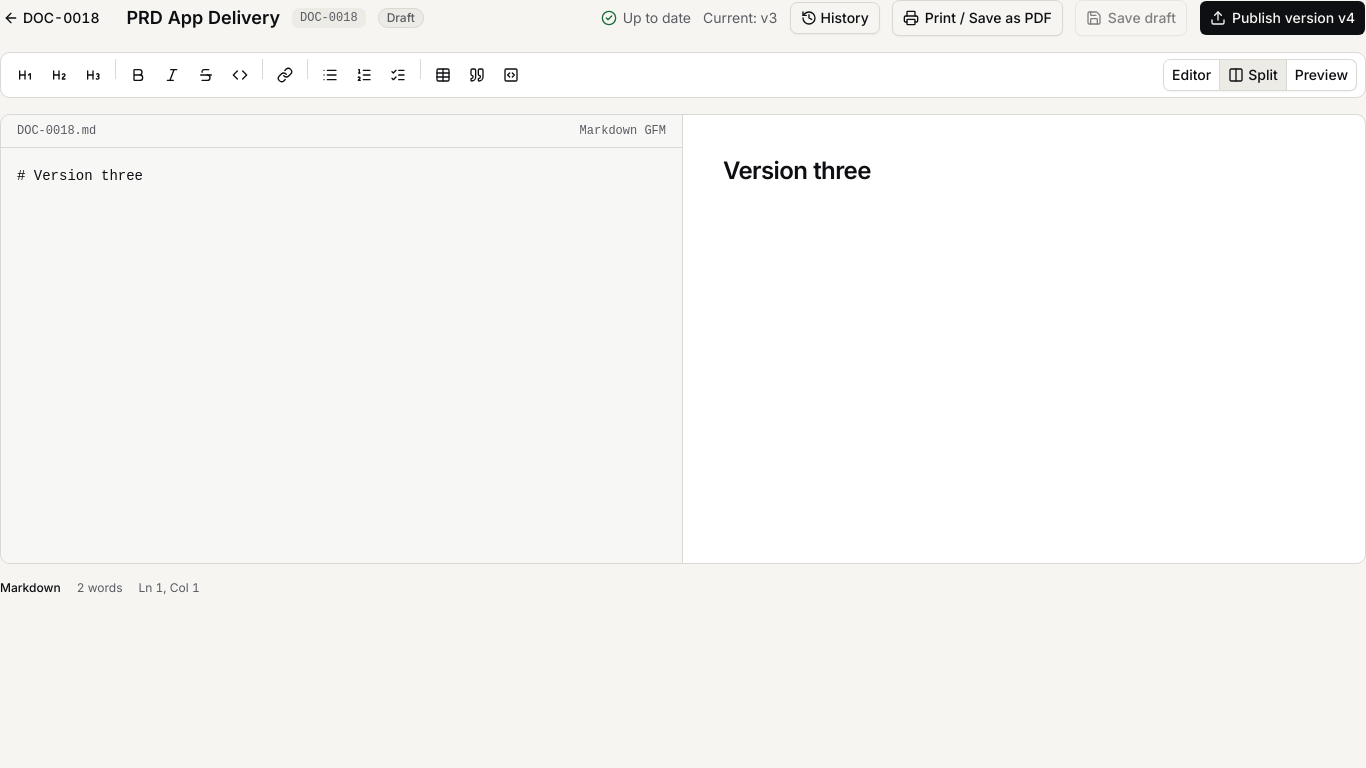
Test: DocumentEditor publish › switches to the locked state when the server reports the document signed
Click the button "Publish version v4".
click(1282, 18)  # box [1199,0,1365,36]
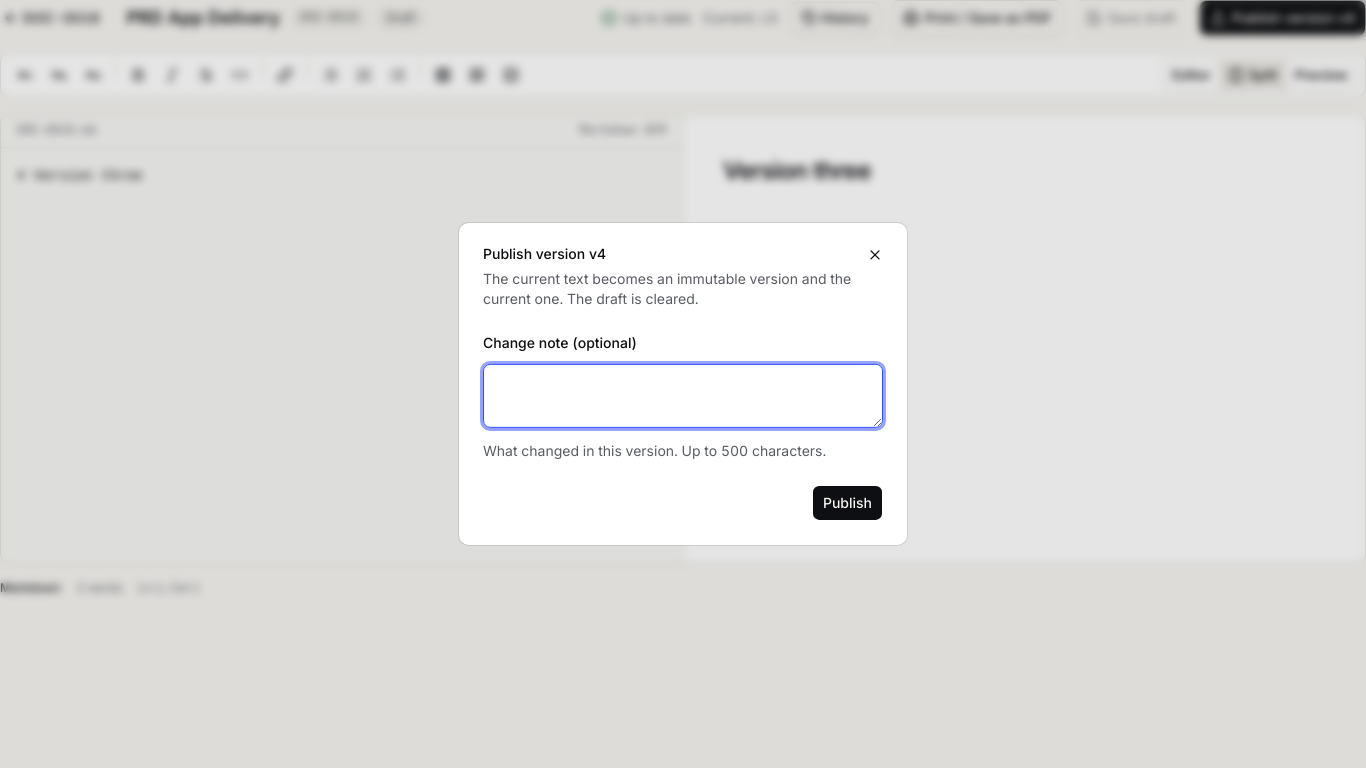
Click the button "Publish".
click(847, 503)  # box [812,485,883,521]
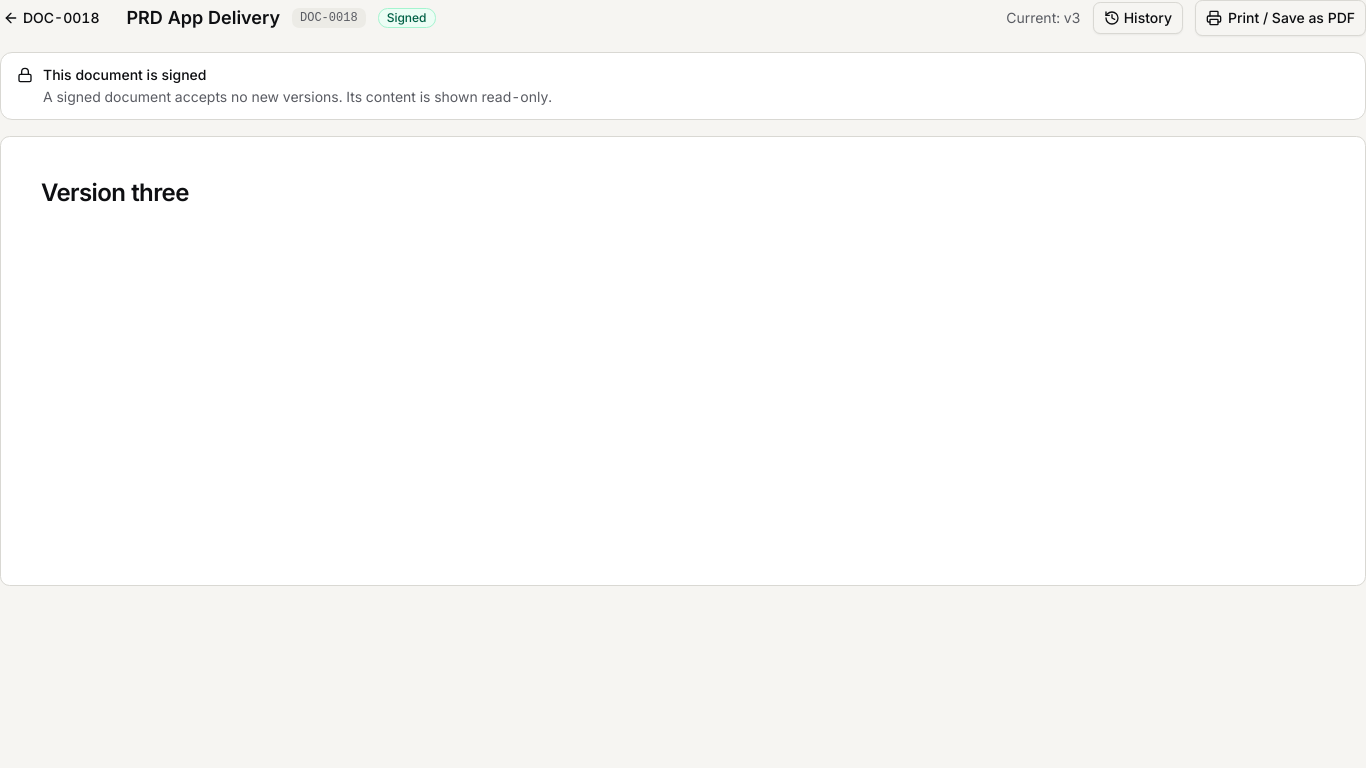
Result: the text "This document is signed" is shown at [43,66,206,83]
